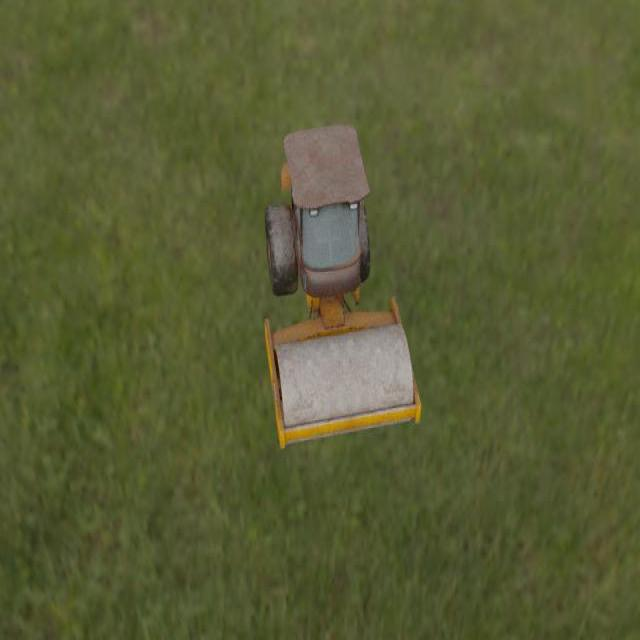Roller: (264, 123, 421, 449)
